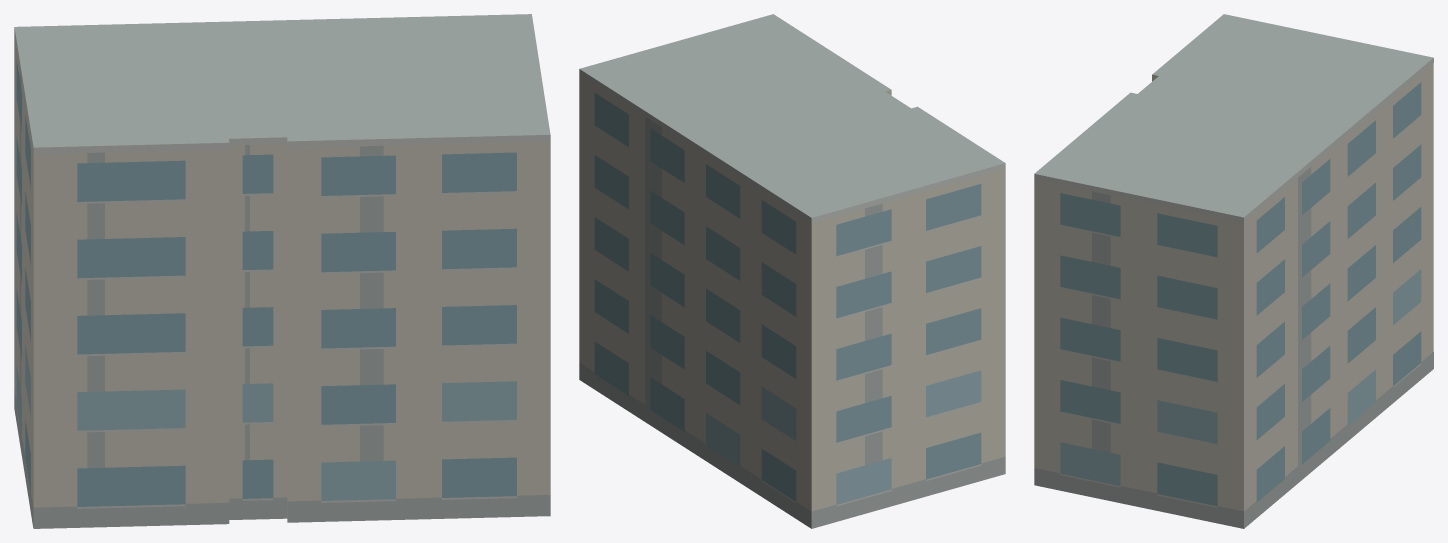
File: survey-upis-32941083.glb
3 renders of one model, left to right at view 1: azimuth 30°, elevation 25°; view 2: azimuth 150°, elevation 25°; view 3: azimuth 270°, elevation 25°, orthographic. The views are drawn at different scales.
Parts seen in each view (by area): view 1: survey-upis-32941083.tmp; view 2: survey-upis-32941083.tmp; view 3: survey-upis-32941083.tmp.
Boxes of the visible parts, box(x1,y1,x2,y2) form: survey-upis-32941083.tmp: box(14, 14, 550, 528); survey-upis-32941083.tmp: box(579, 14, 1005, 528); survey-upis-32941083.tmp: box(1034, 14, 1433, 528).
Size of the model in its own units: 19.21 by 13.7 by 15.94.
